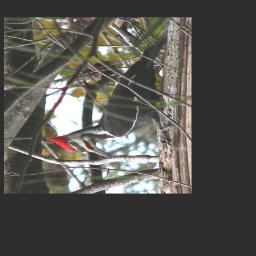Woodpecker: (46, 30, 175, 159)
